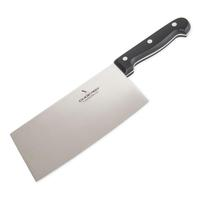knife: (5, 15, 187, 185)
